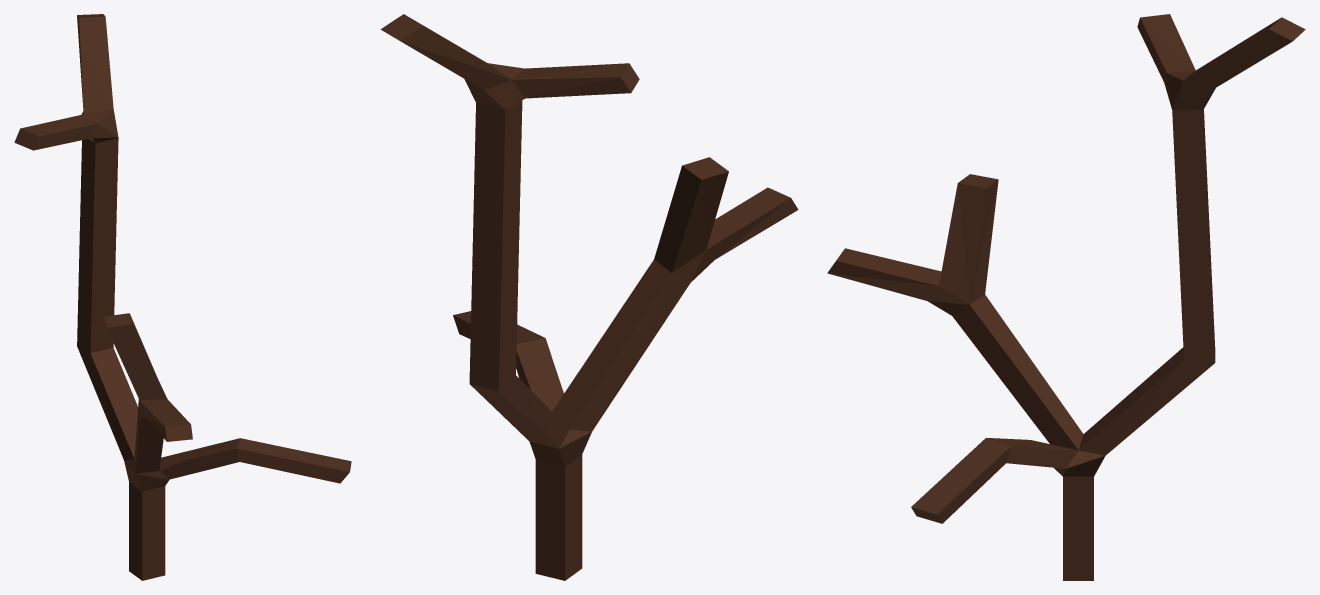
File: tree-004.gltf
3 renders of one model, left to right at view 1: azimuth 30°, elevation 25°; view 2: azimuth 150°, elevation 25°; view 3: azimuth 270°, elevation 25°, orthographic. The views are drawn at different scales.
Visible parts, largest first — view 1: Tree.004; view 2: Tree.004; view 3: Tree.004.
Part boxes in pixels (x1,y1,x2,y2): Tree.004: [14, 14, 351, 580]; Tree.004: [380, 14, 798, 580]; Tree.004: [827, 14, 1305, 580].
Size of the model in its own units: 1.21 by 2.36 by 1.8.
1 material, 1 textured.
